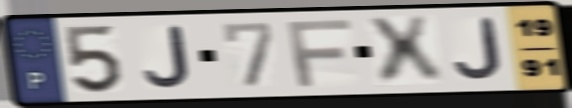5: (61, 24, 125, 95)
7: (217, 20, 278, 90)
F: (283, 17, 354, 89)
J: (451, 17, 506, 82), (140, 24, 194, 90)
X: (362, 13, 449, 88)
